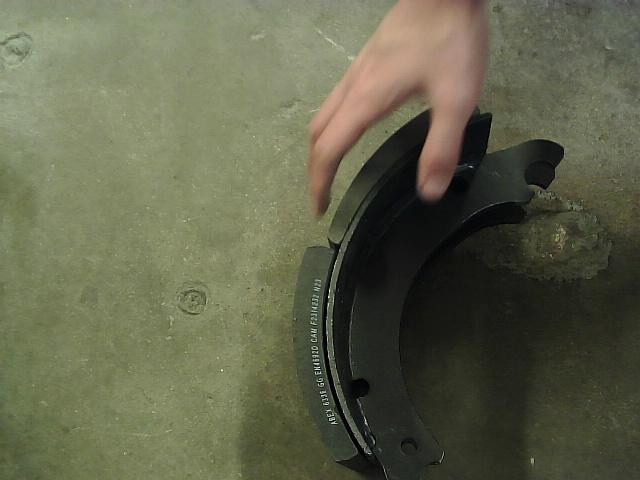brake-shoes: (291, 97, 565, 480)
